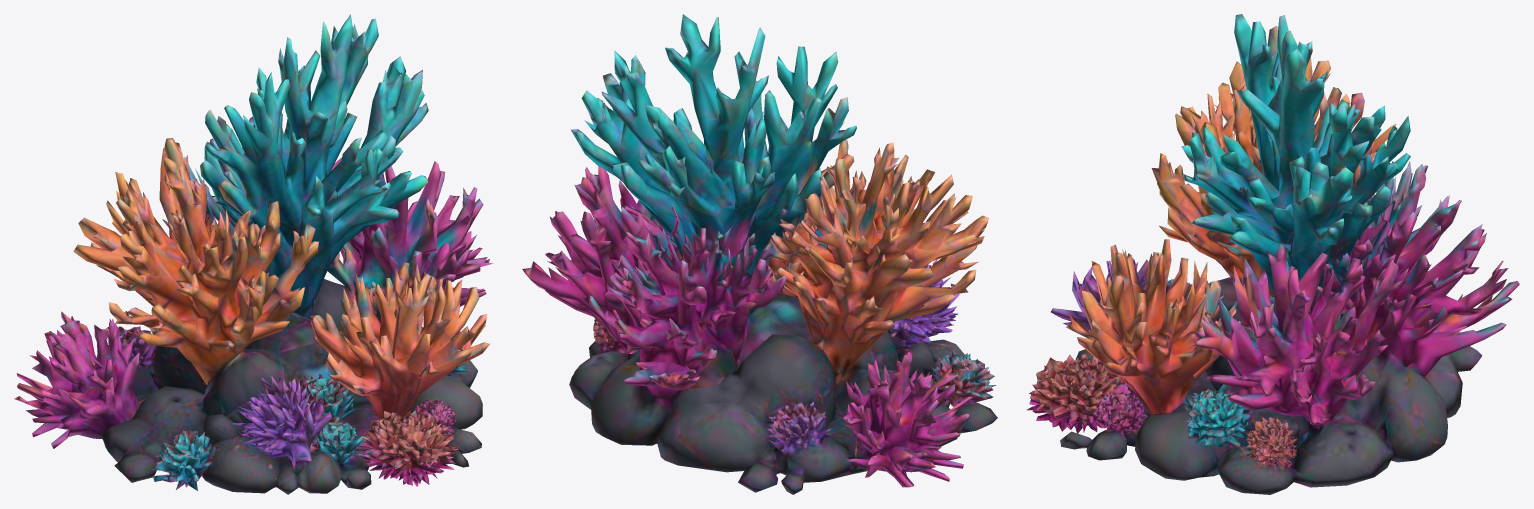
3 renders of one model, left to right at view 1: azimuth 30°, elevation 25°; view 2: azimuth 150°, elevation 25°; view 3: azimuth 270°, elevation 25°, orthographic. The views are drawn at different scales.
Size of the model in its own units: 1.9 by 1.56 by 1.75.
1 material, 1 textured.
